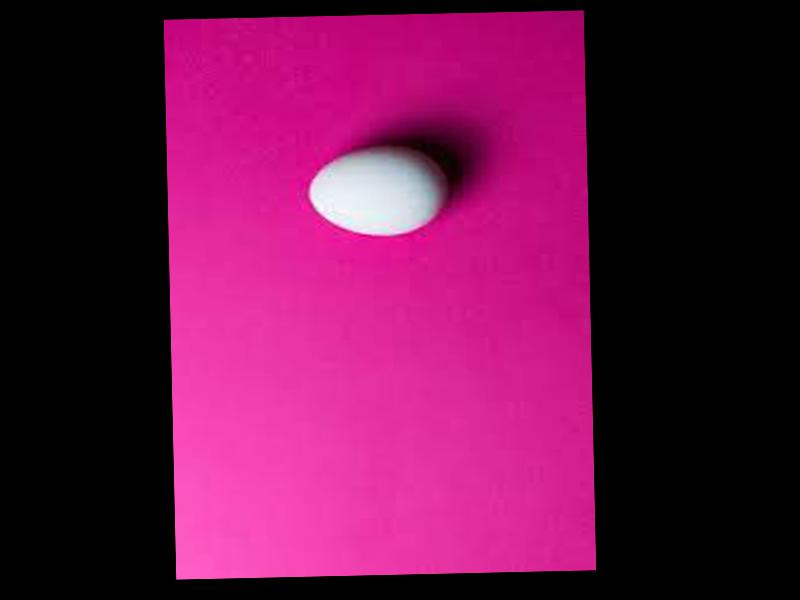Eggs: (307, 145, 448, 238)
